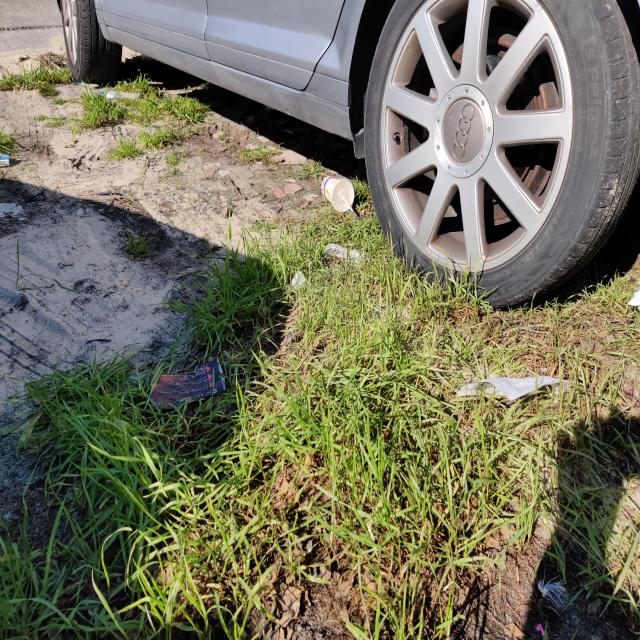litter: (327, 176, 351, 211)
